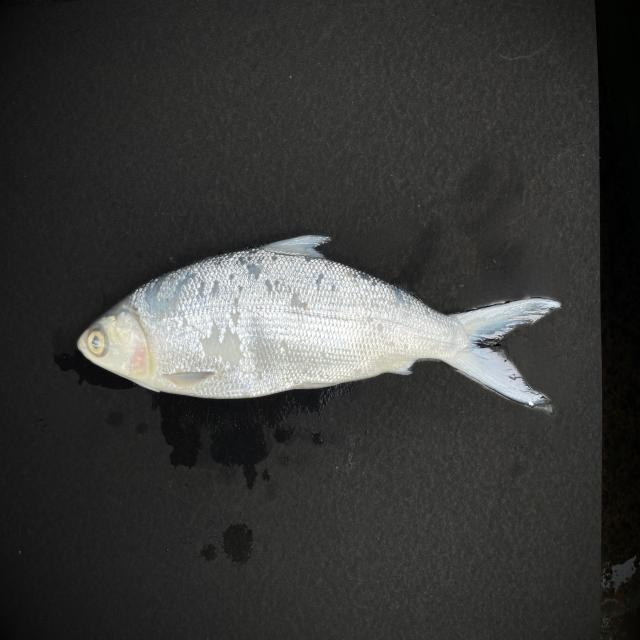600 g: (77, 235, 563, 407)
